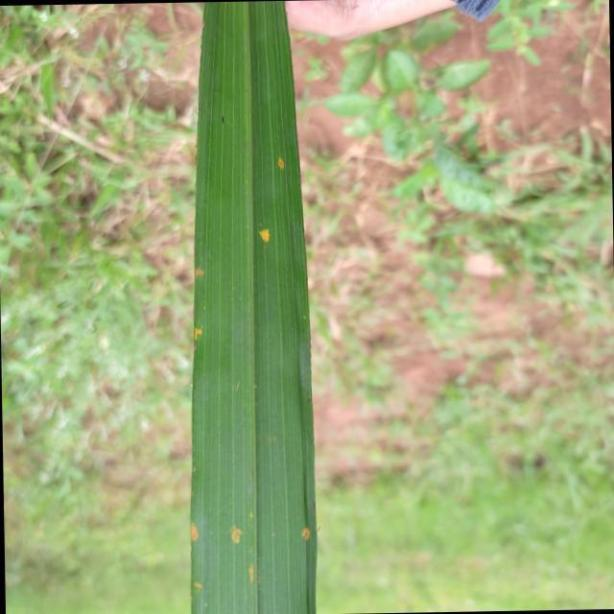Kalium: (187, 0, 333, 614)
